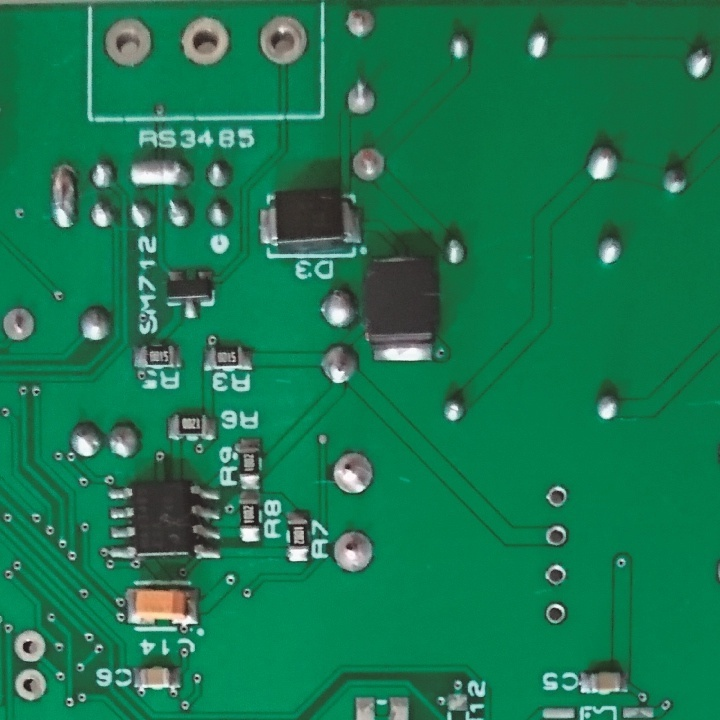F: (176, 15, 232, 69), (256, 12, 309, 68), (101, 18, 156, 71), (328, 449, 376, 498), (330, 527, 376, 576), (347, 143, 389, 182), (344, 75, 380, 119), (1, 303, 38, 345), (343, 5, 378, 45), (13, 666, 49, 704), (13, 628, 47, 666), (542, 558, 570, 589), (544, 483, 573, 511), (544, 523, 572, 550), (543, 599, 568, 626)
P: (127, 152, 195, 192), (49, 158, 78, 232)
